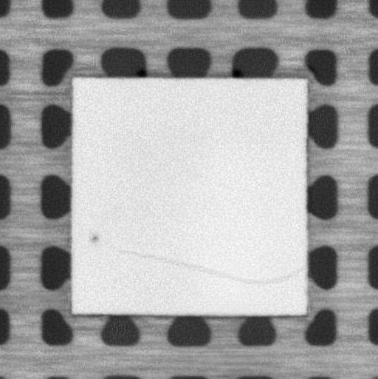DIE_CRACK: (126, 249, 302, 286)
